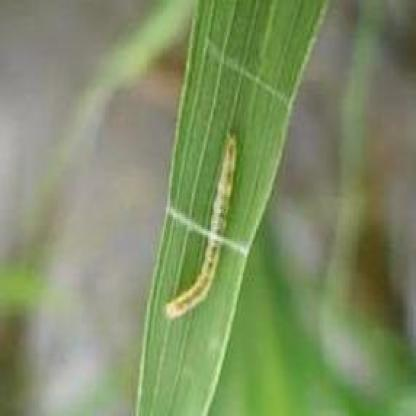leaf-folder: (148, 121, 262, 328)
